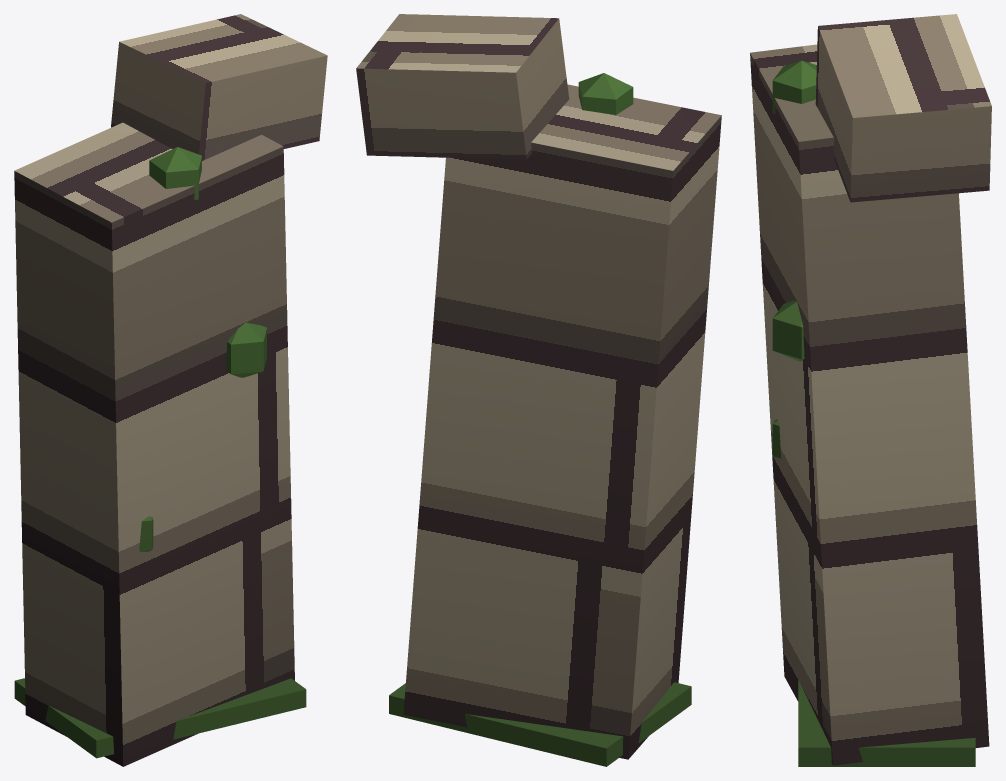
File: standing_stone.glb
3 views of the same model, side by side, from view 1: azimuth 30°, elevation 25°; view 2: azimuth 150°, elevation 25°; view 3: azimuth 270°, elevation 25° (orthographic). The views are drawn at different scales.
Visible parts, largest first — view 1: standing_stone; view 2: standing_stone; view 3: standing_stone.
Part boxes in pixels (x1,y1,x2,y2): standing_stone: [14, 14, 327, 766]; standing_stone: [356, 14, 721, 766]; standing_stone: [750, 14, 991, 766].
Bounding box in the file's own units: 1.02 × 2.18 × 0.6821.
Materials: 2 (1 with a texture image).
